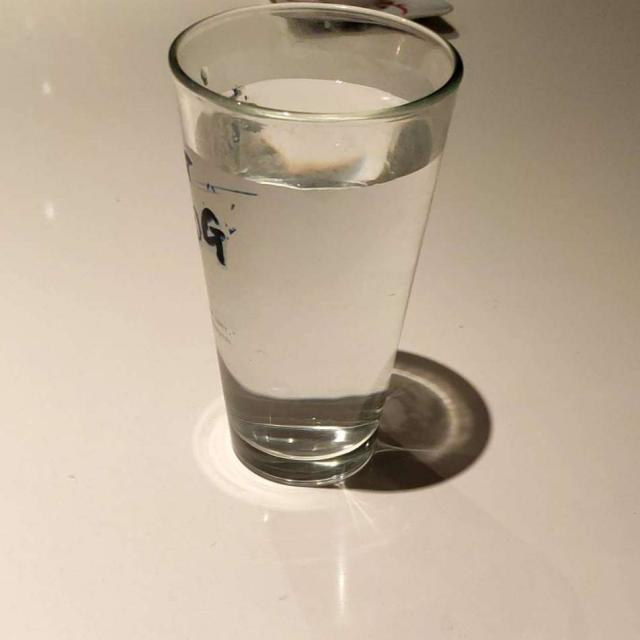water: (192, 102, 440, 452)
